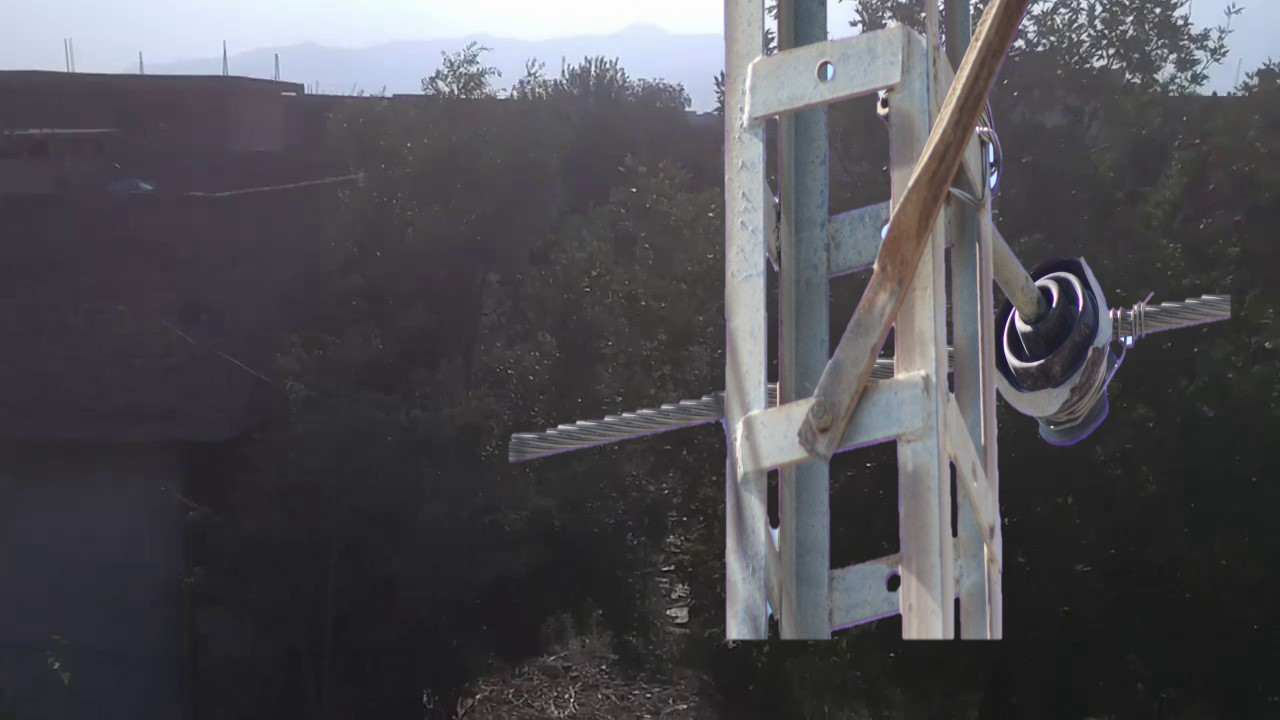defect_pin: (988, 247, 1132, 464)
